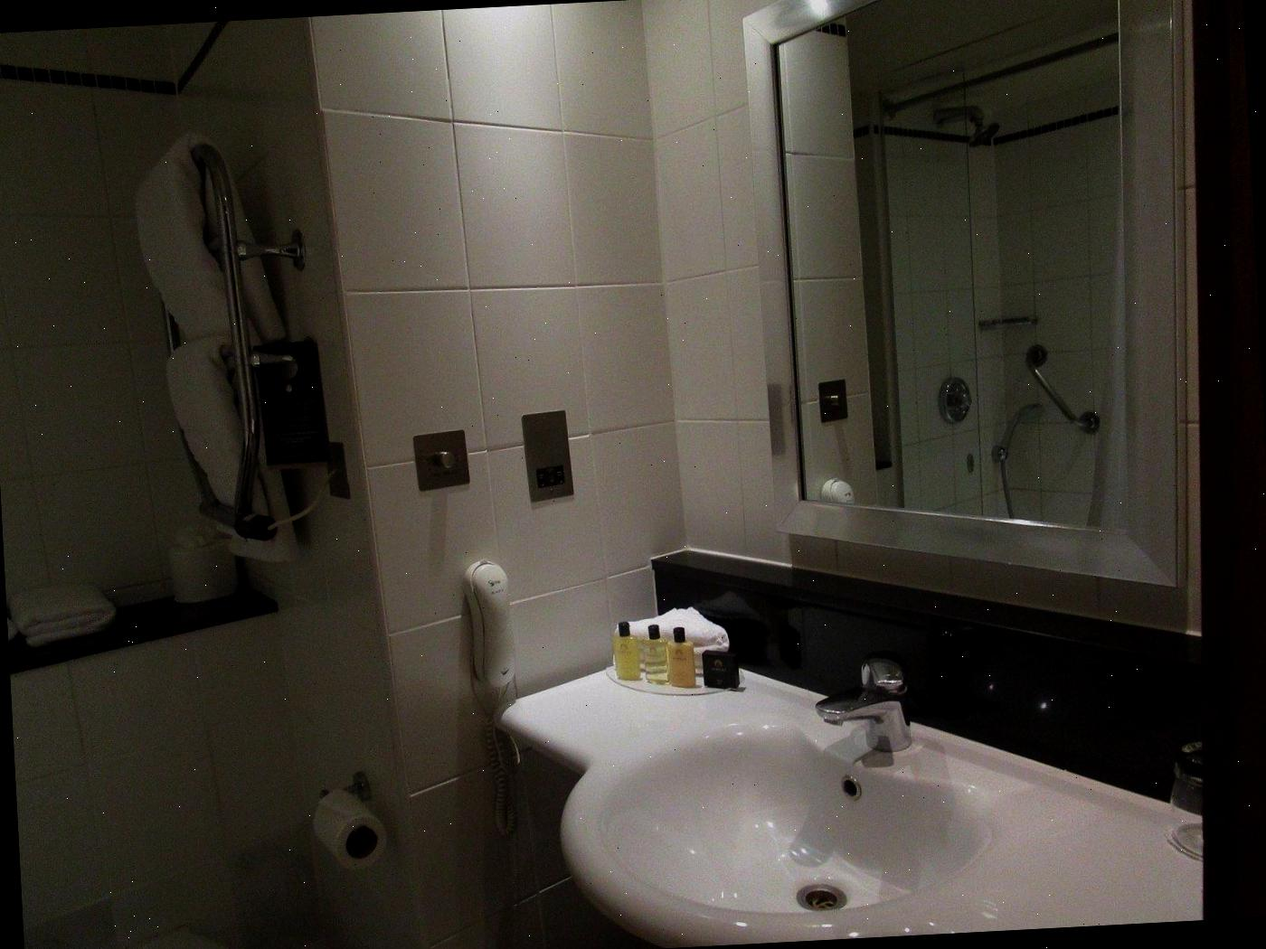clean_sink: (484, 576, 1223, 942)
folded_towel: (137, 132, 319, 563), (6, 582, 115, 644)
